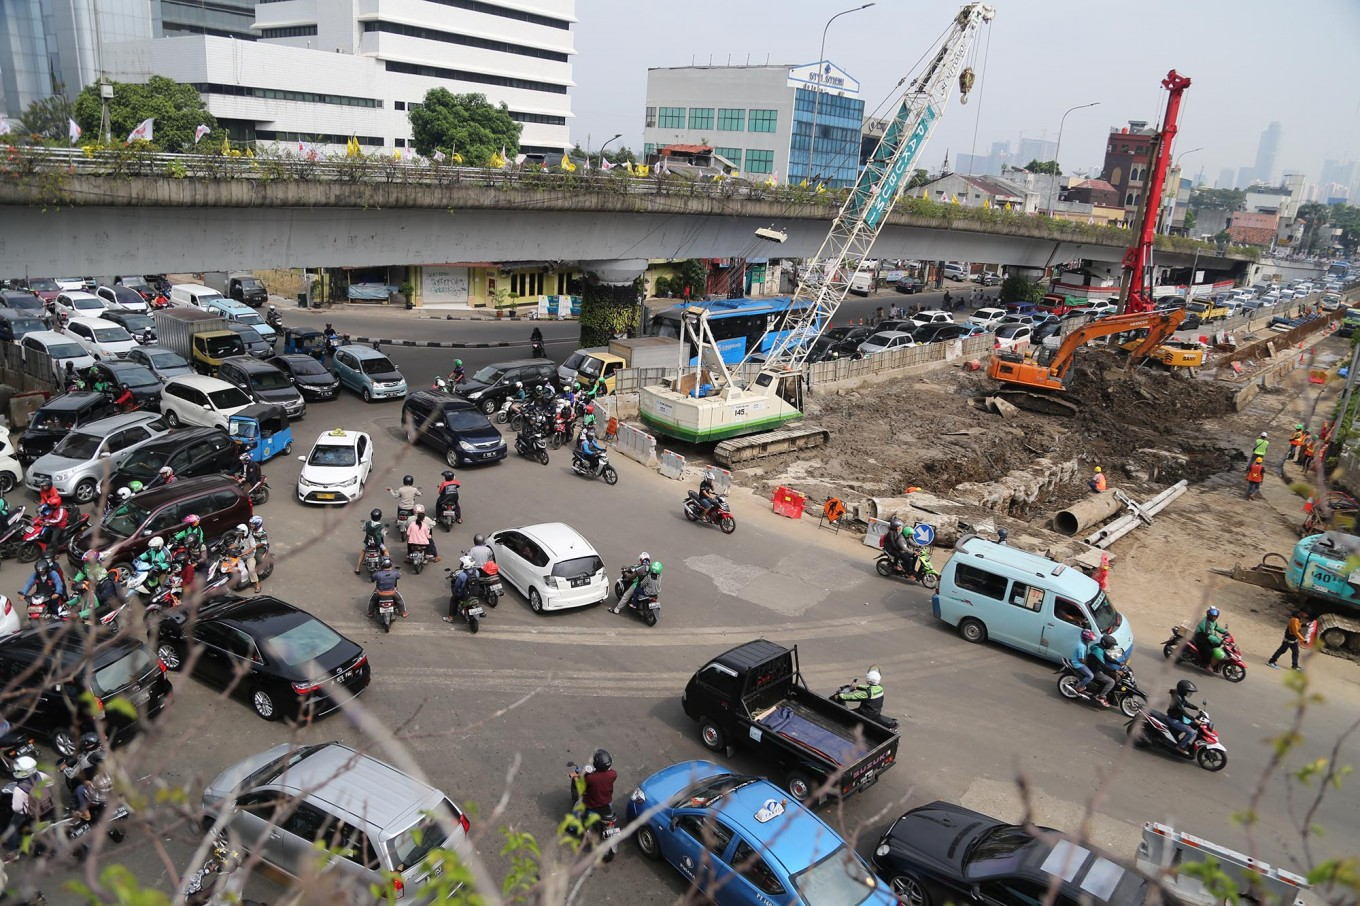Humano: (1269, 601, 1309, 672), (580, 746, 618, 817), (1167, 676, 1198, 759), (1091, 631, 1123, 706), (853, 661, 894, 717), (38, 498, 77, 553), (1194, 603, 1222, 676), (1071, 623, 1094, 696), (452, 554, 481, 605), (178, 533, 214, 573), (358, 506, 390, 551), (170, 551, 204, 592), (136, 535, 173, 571), (372, 557, 405, 598), (1244, 453, 1269, 505), (625, 545, 649, 592), (406, 512, 438, 547), (394, 473, 423, 512), (437, 468, 465, 506), (698, 471, 716, 526), (250, 517, 271, 563), (28, 560, 57, 591), (1085, 463, 1109, 498), (883, 514, 902, 556), (233, 522, 252, 563), (647, 558, 666, 596), (1306, 431, 1322, 477), (897, 527, 918, 558), (581, 430, 602, 462), (34, 476, 60, 502), (1289, 421, 1302, 468), (1247, 429, 1271, 454), (446, 358, 468, 382)
